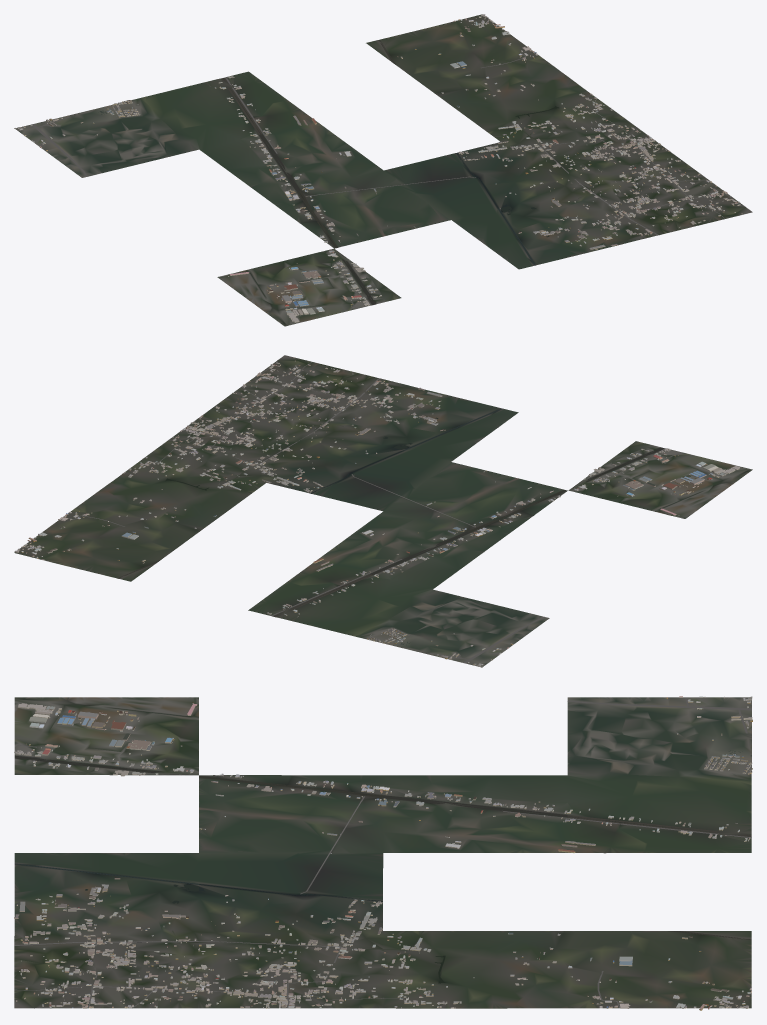
3 renders of one model, top to bottom at view 1: azimuth 30°, elevation 25°; view 2: azimuth 150°, elevation 25°; view 3: azimuth 270°, elevation 25°, orthographic. The views are drawn at different scales.
Visible parts, largest first — view 1: ground, buildings, water, roads; view 2: ground, buildings, water, roads; view 3: ground, buildings, water, roads.
Part boxes in pixels (<box>): ground: <box>15,14,752,326</box>; buildings: <box>14,14,742,322</box>; water: <box>100,40,558,304</box>; roads: <box>31,49,745,308</box>; ground: <box>14,355,752,667</box>; buildings: <box>14,357,739,667</box>; water: <box>118,408,664,644</box>; roads: <box>68,360,681,663</box>; ground: <box>14,697,751,1008</box>; buildings: <box>14,696,752,1010</box>; water: <box>14,750,751,983</box>; roads: <box>14,697,751,1008</box>.
Size of the model in its own units: 5647 by 23.44 by 5616.
